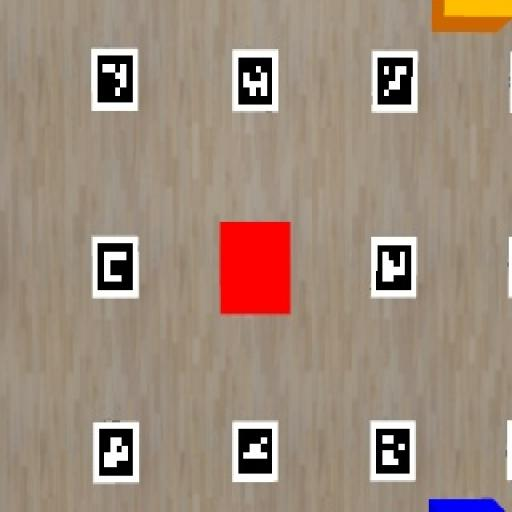car: (429, 498, 505, 511)
fire: (220, 222, 291, 315), (432, 0, 511, 34)
